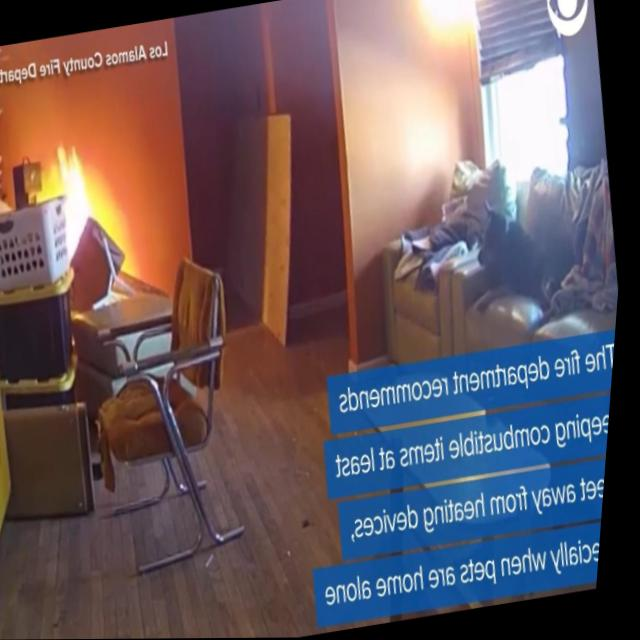fire: (26, 137, 105, 275)
